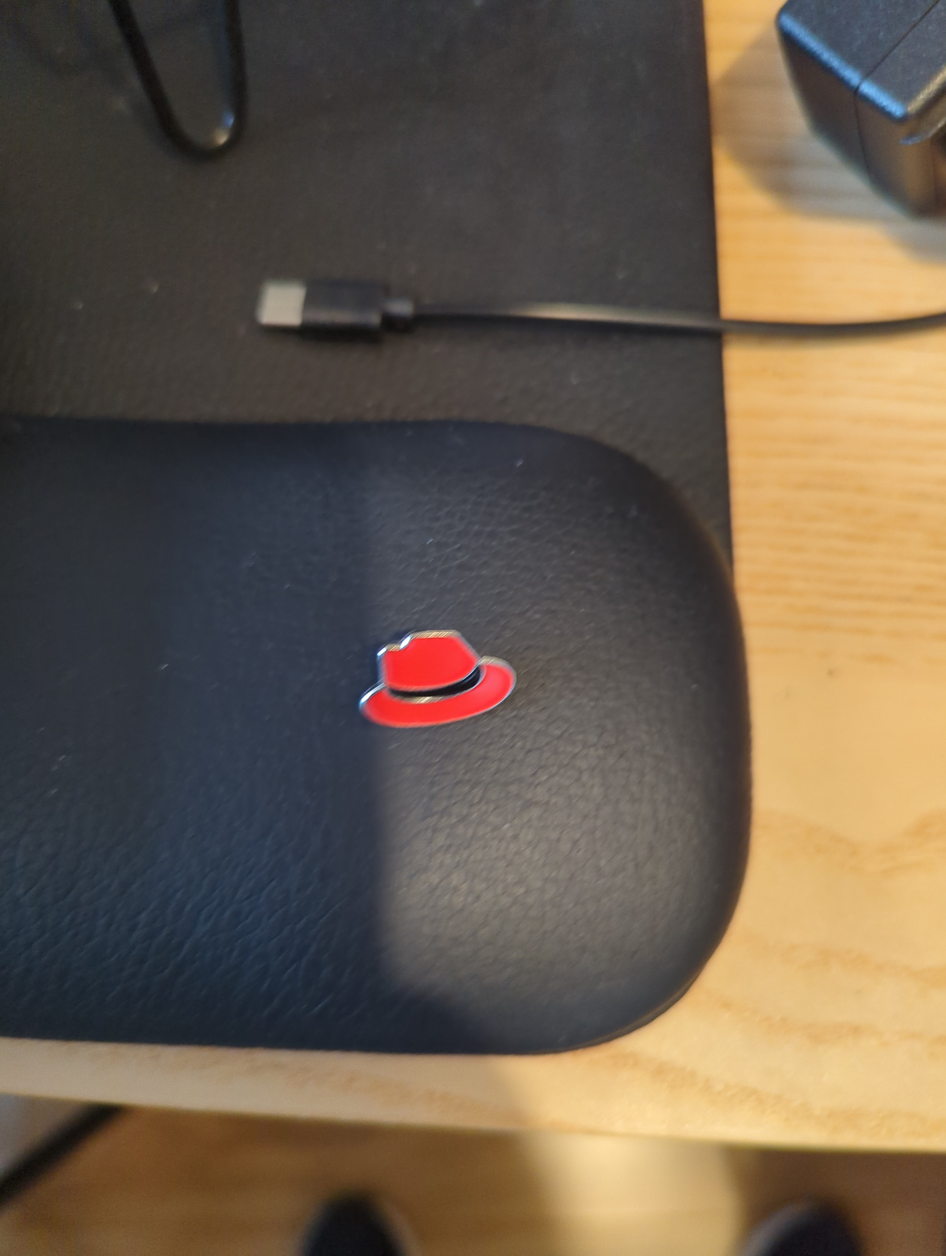Red-Hat: (298, 578, 632, 792)
